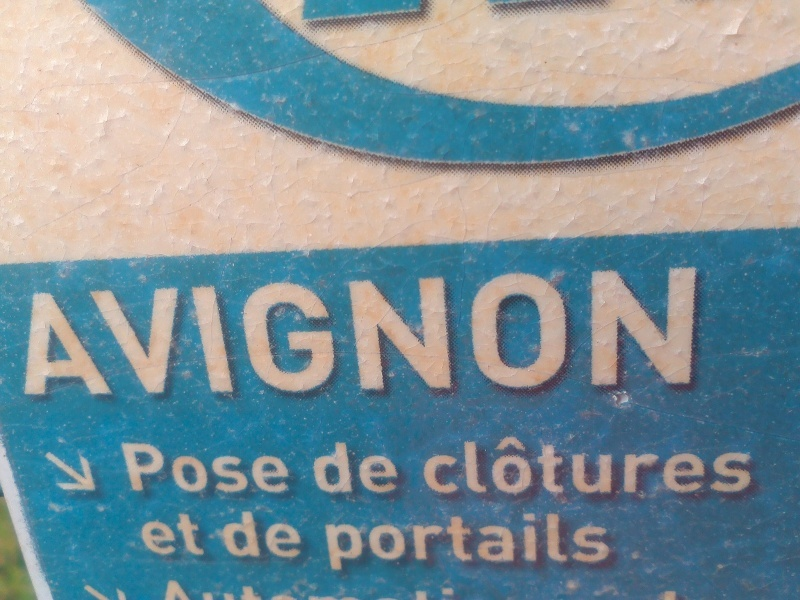text: (33, 265, 48, 401), (49, 265, 64, 401), (65, 265, 80, 401), (81, 265, 96, 401), (97, 265, 112, 401), (113, 265, 128, 401), (129, 265, 144, 401), (145, 265, 160, 401), (161, 265, 176, 401), (177, 265, 192, 401), (193, 265, 208, 401), (209, 265, 224, 401), (225, 265, 240, 401), (241, 265, 256, 401), (257, 265, 272, 401), (273, 265, 288, 401), (289, 265, 304, 401), (305, 265, 320, 401), (321, 265, 336, 401), (337, 265, 352, 401), (353, 265, 368, 401), (369, 265, 384, 401), (385, 265, 400, 401), (401, 265, 416, 401), (417, 265, 432, 401), (433, 265, 448, 401), (449, 265, 464, 401), (465, 265, 480, 401), (481, 265, 496, 401), (497, 265, 512, 401), (513, 265, 528, 401), (529, 265, 544, 401), (545, 265, 560, 401), (561, 265, 576, 401), (577, 265, 592, 401), (593, 265, 608, 401), (609, 265, 624, 401), (625, 265, 640, 401), (641, 265, 656, 401), (657, 265, 672, 401), (673, 265, 688, 401), (689, 265, 702, 401), (433, 435, 448, 497), (449, 435, 464, 497), (465, 435, 480, 497), (481, 435, 496, 497), (497, 435, 512, 497), (513, 435, 528, 497), (529, 435, 544, 497), (545, 435, 560, 497), (561, 435, 576, 497), (577, 435, 592, 497), (593, 435, 608, 497), (609, 435, 624, 497), (625, 435, 640, 497), (641, 435, 656, 497), (657, 435, 672, 497), (673, 435, 688, 497), (689, 435, 704, 497), (705, 435, 720, 497), (721, 435, 736, 497), (737, 435, 752, 497), (385, 441, 401, 496), (337, 513, 352, 571), (353, 513, 368, 571), (369, 513, 384, 571), (385, 513, 400, 571), (401, 513, 416, 571), (417, 513, 432, 571), (433, 513, 448, 571), (449, 513, 464, 571), (465, 513, 480, 571), (481, 513, 496, 571), (497, 513, 512, 571), (513, 513, 528, 571), (529, 513, 544, 571), (545, 513, 560, 571), (561, 513, 576, 571), (577, 513, 592, 571), (593, 513, 608, 571), (129, 440, 144, 495), (145, 440, 160, 495), (161, 440, 176, 495), (177, 440, 192, 495), (193, 440, 208, 495), (209, 440, 224, 495), (225, 440, 240, 495), (241, 440, 256, 495), (257, 440, 272, 495), (273, 440, 288, 495), (321, 441, 336, 496), (337, 441, 352, 496), (353, 441, 368, 496), (369, 441, 384, 496), (26, 265, 32, 401), (225, 510, 240, 561), (241, 510, 256, 561), (257, 510, 272, 561), (273, 510, 288, 561), (289, 510, 303, 561), (145, 513, 160, 557), (161, 513, 176, 557), (177, 513, 192, 557), (193, 513, 206, 557), (423, 435, 432, 497), (310, 441, 320, 496), (327, 513, 336, 571), (120, 440, 128, 495), (177, 579, 192, 600), (193, 579, 208, 600), (209, 579, 224, 600), (225, 579, 240, 600), (241, 579, 256, 600), (257, 579, 272, 600), (273, 579, 288, 600), (289, 579, 304, 600), (305, 579, 320, 600), (321, 579, 336, 600), (337, 579, 352, 600), (353, 579, 368, 600), (369, 579, 384, 600), (385, 579, 400, 600), (401, 579, 416, 600), (417, 579, 432, 600), (433, 579, 448, 600), (165, 579, 176, 600), (449, 579, 458, 600), (609, 513, 612, 571), (289, 440, 292, 495), (222, 510, 224, 561), (142, 513, 144, 557)
